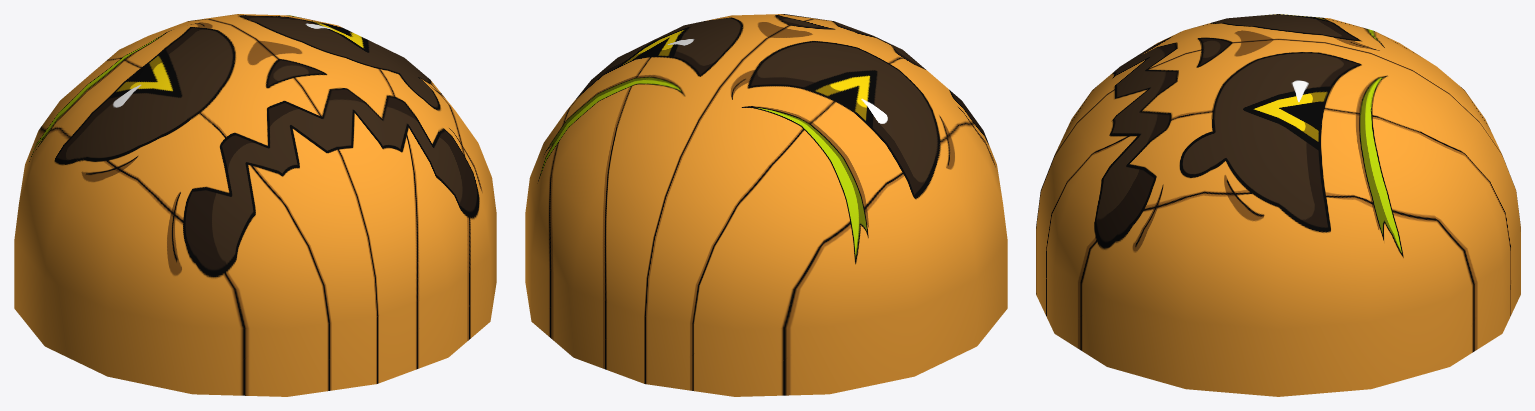
Rendered from pumpkin1.fbx.
The picture shows the model from 3 angles, left to right: view 1: azimuth 30°, elevation 25°; view 2: azimuth 150°, elevation 25°; view 3: azimuth 270°, elevation 25°; orthographic projection.
Visible parts, largest first — view 1: pasted__pasted__pSphere1; view 2: pasted__pasted__pSphere1; view 3: pasted__pasted__pSphere1.
Part boxes in pixels (x1,y1,x2,y2): pasted__pasted__pSphere1: [14, 14, 496, 396]; pasted__pasted__pSphere1: [525, 14, 1007, 396]; pasted__pasted__pSphere1: [1036, 14, 1520, 396].
Size of the model in its own units: 68.01 by 39.5 by 68.01.
1 material, 1 textured.
